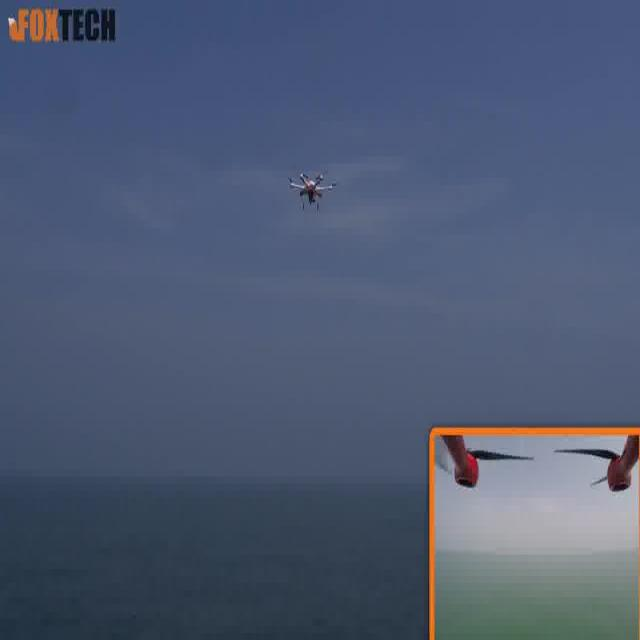drone: (281, 146, 347, 228)
